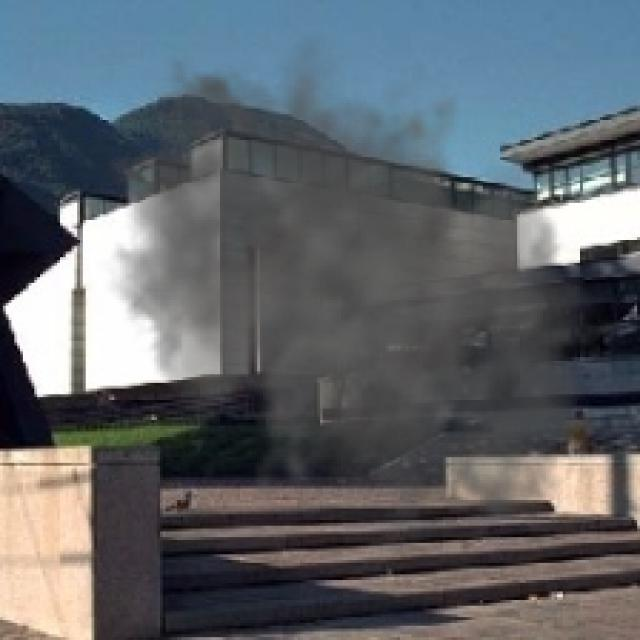smoke: (72, 31, 637, 566)
